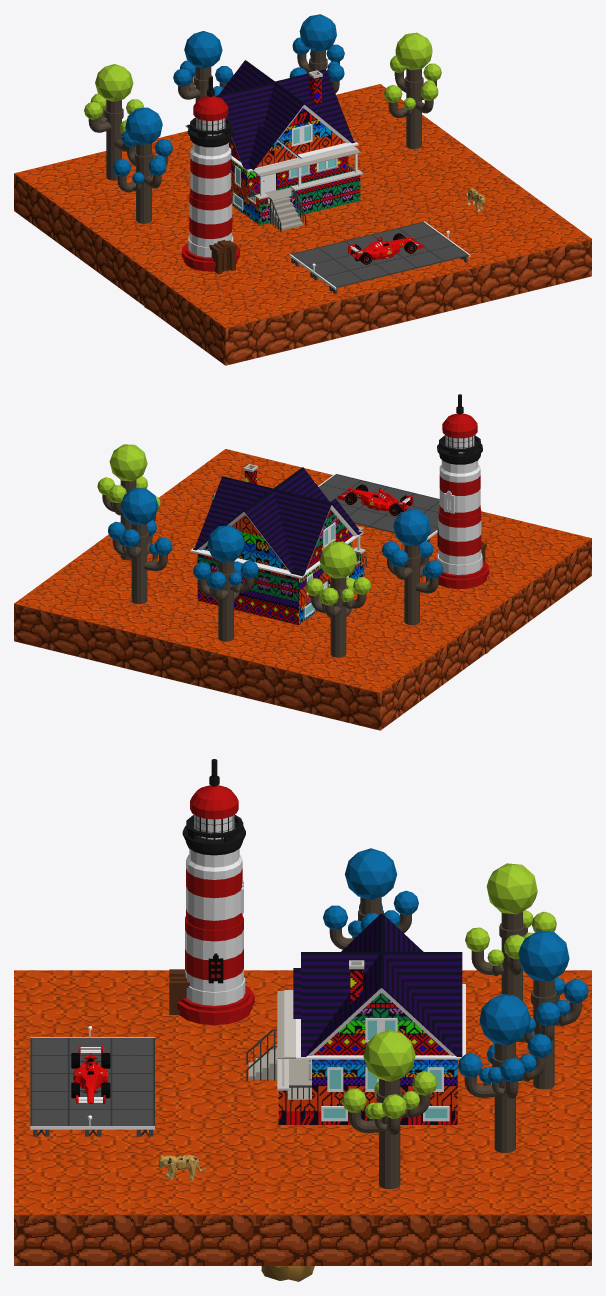
3 renders of one model, top to bottom at view 1: azimuth 30°, elevation 25°; view 2: azimuth 150°, elevation 25°; view 3: azimuth 270°, elevation 25°, orthographic. The views are drawn at different scales.
Parts seen in each view (by area): view 1: Cube.001, Cube.966, OBJRANDOM_LIGHTHOUSE, VEHICLES_FORMULA_1; view 2: Cube.001, Cube.966, OBJRANDOM_LIGHTHOUSE, VEHICLES_FORMULA_1; view 3: Cube.001, Cube.966, OBJRANDOM_LIGHTHOUSE, VEHICLES_FORMULA_1, ANIMAL_JAGUAR, UNDERGROUND_T_REX_BONES.
Boxes of the visible parts, <box> form: Cube.001: <box>14,14,591,365</box>; Cube.966: <box>185,60,362,231</box>; OBJRANDOM_LIGHTHOUSE: <box>181,77,239,274</box>; VEHICLES_FORMULA_1: <box>348,233,423,264</box>; Cube.001: <box>14,444,591,730</box>; Cube.966: <box>190,464,366,625</box>; OBJRANDOM_LIGHTHOUSE: <box>437,394,489,588</box>; VEHICLES_FORMULA_1: <box>338,484,413,515</box>; Cube.001: <box>14,848,591,1265</box>; Cube.966: <box>246,913,465,1124</box>; OBJRANDOM_LIGHTHOUSE: <box>169,759,254,1025</box>; VEHICLES_FORMULA_1: <box>71,1045,110,1103</box>; ANIMAL_JAGUAR: <box>158,1155,205,1180</box>; UNDERGROUND_T_REX_BONES: <box>261,1266,314,1281</box>.
Bounding box in the file's own units: 4000 × 2488 × 4000.
45 materials, 8 textured.
